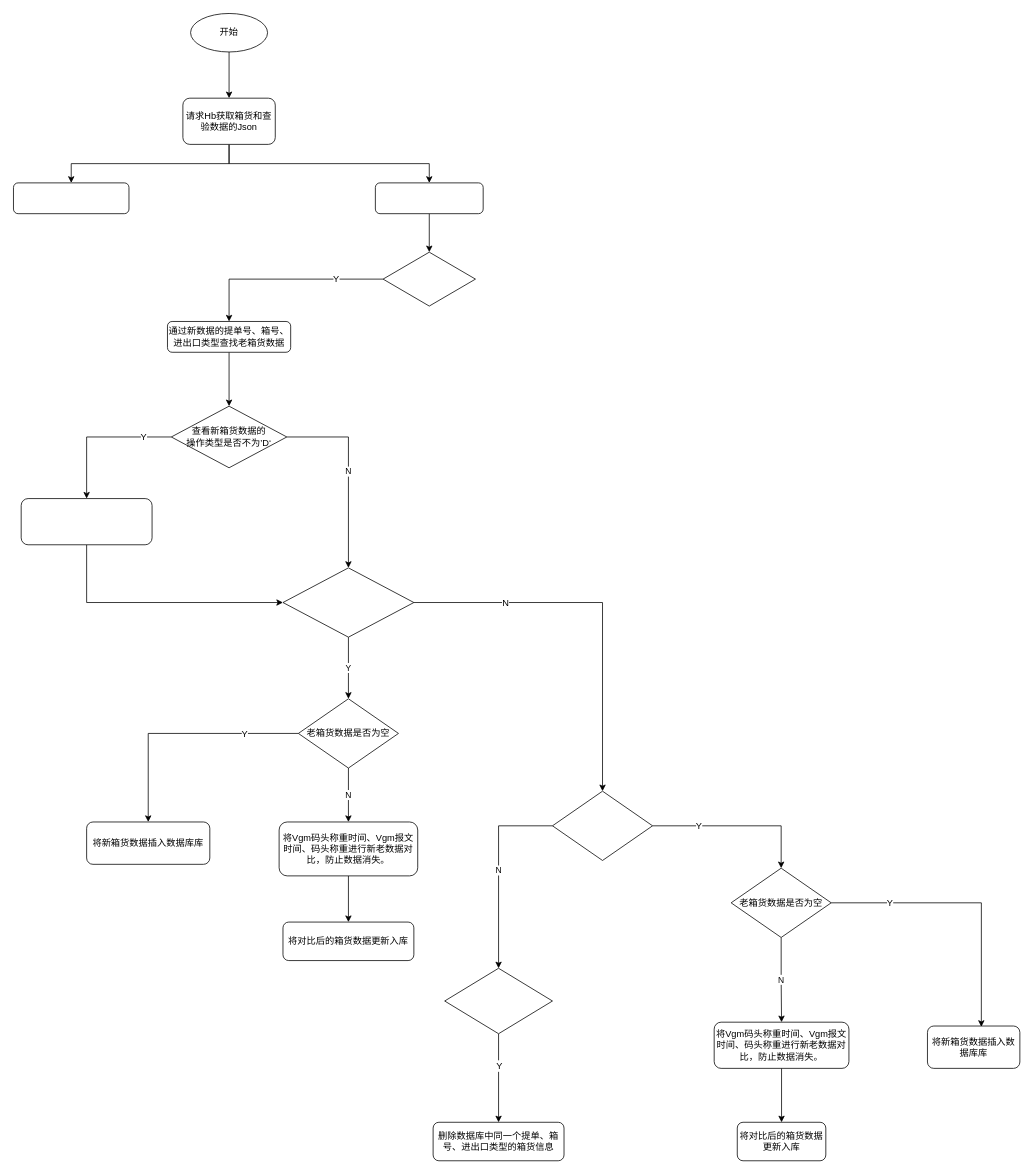
Some shapes in this 1033 by 1174 pixel diagram are drawn without their labels. Each missing label, with the centre of its shape:
将新旧箱货消息包装成消息体推送到微信推送的Mq队列: (86,521)
将箱货数据与查验数据解析成实体: (429,198)
新箱货数据操作码 是否为’D‘: (498,1001)
新箱货数据操作码 是否为’I‘: (602,825)
新箱货数据操作码 是否为’u‘: (348,602)
是否为箱货数据: (428,278)
消息发送到江沪1和江沪23: (71,198)
